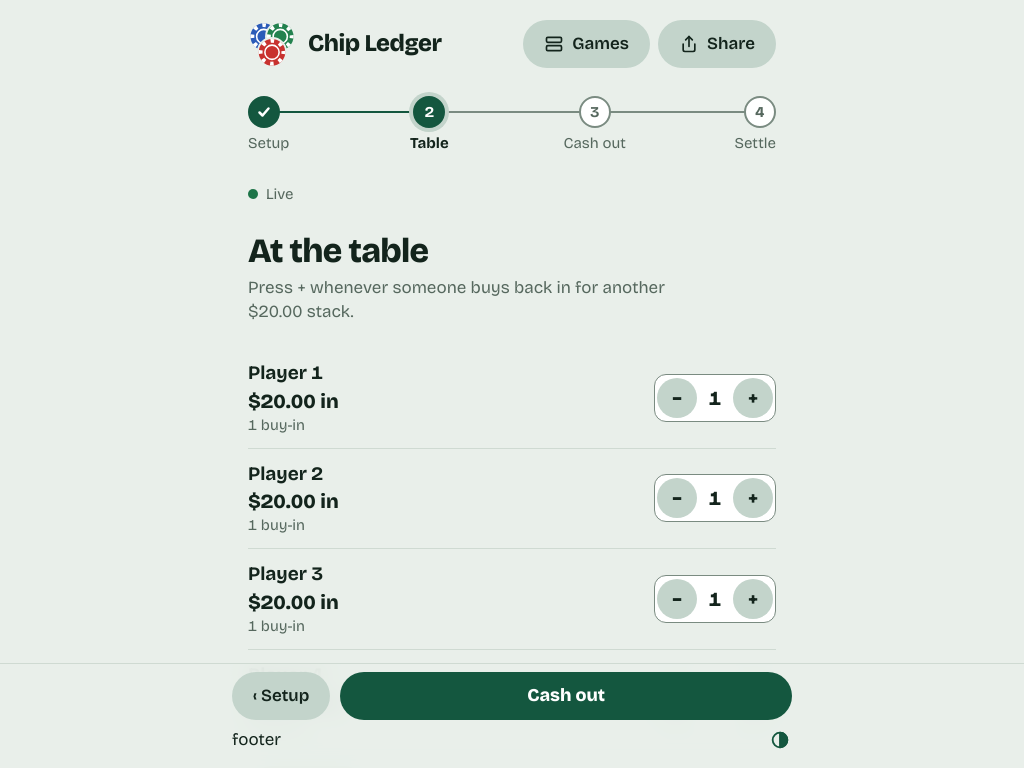
it: SharedGameApp: editing (REQ-0003-07, -10, -14) › shows a rebuy at once, says it, and sends it to the server
The image size is (1024, 768).
Click the button named "Add a buy-in for Player 1" at (753, 398), box [733,378,773,418]
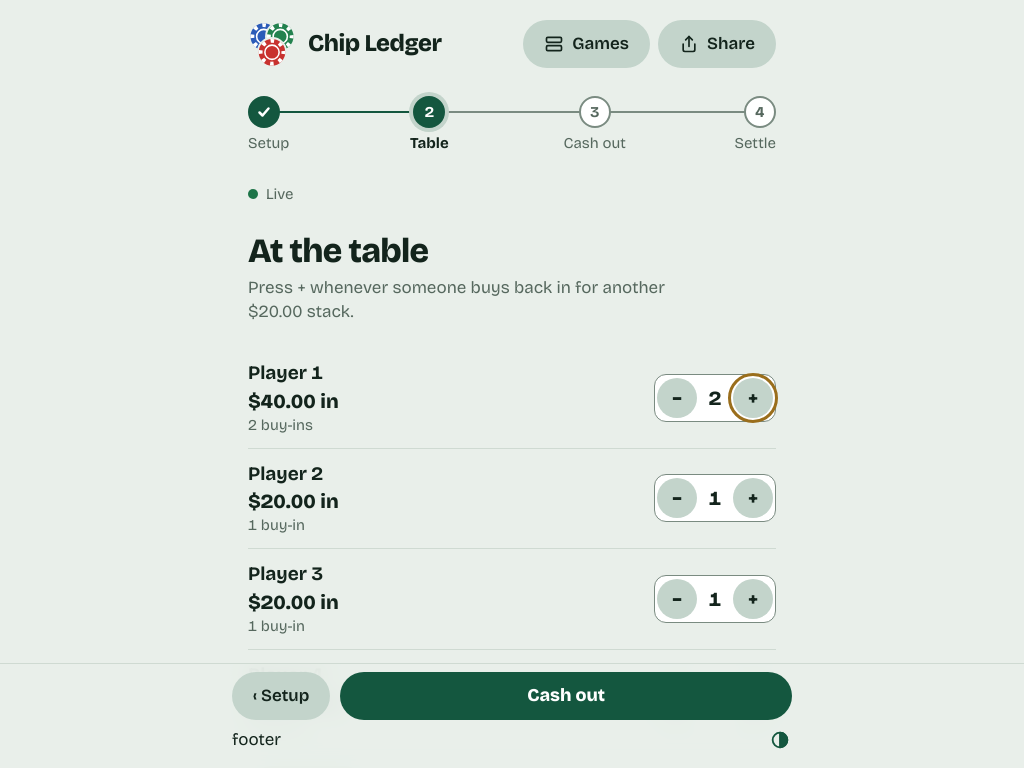
Result: the element named "Buy-ins for Player 1" shows "2" at [709,386,721,410]
